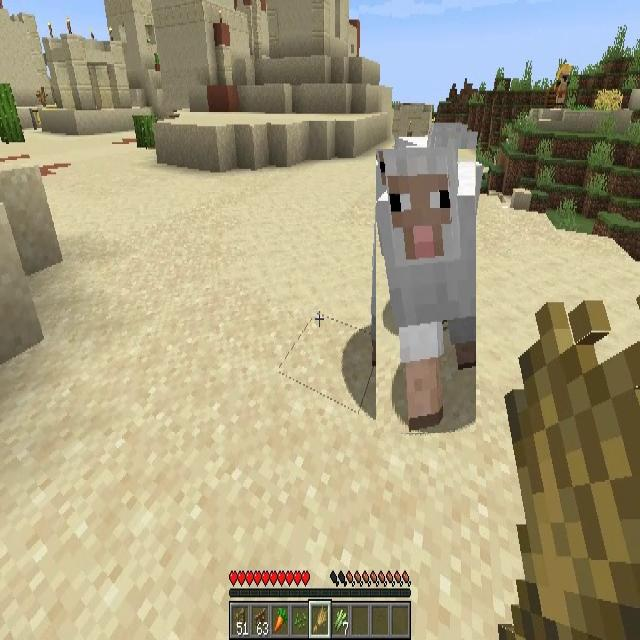sheep: (376, 149, 476, 433)
